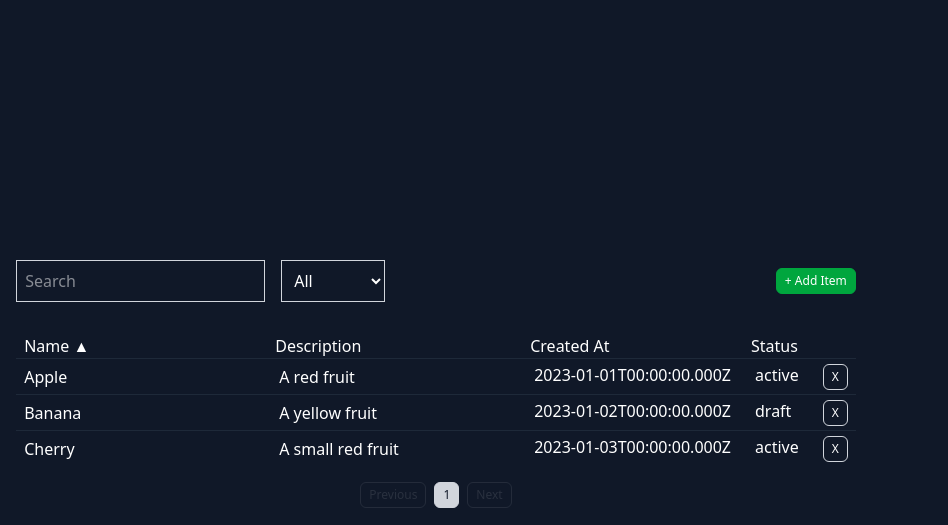
Integration Tests - Full Flow with MSW › should handle API failures gracefully
This screenshot has width=948, height=525.
Try to edit item
Replace the text in the 1st field showing "Apple" with "Green Apple" at (140, 376), box [16,363,263,390]
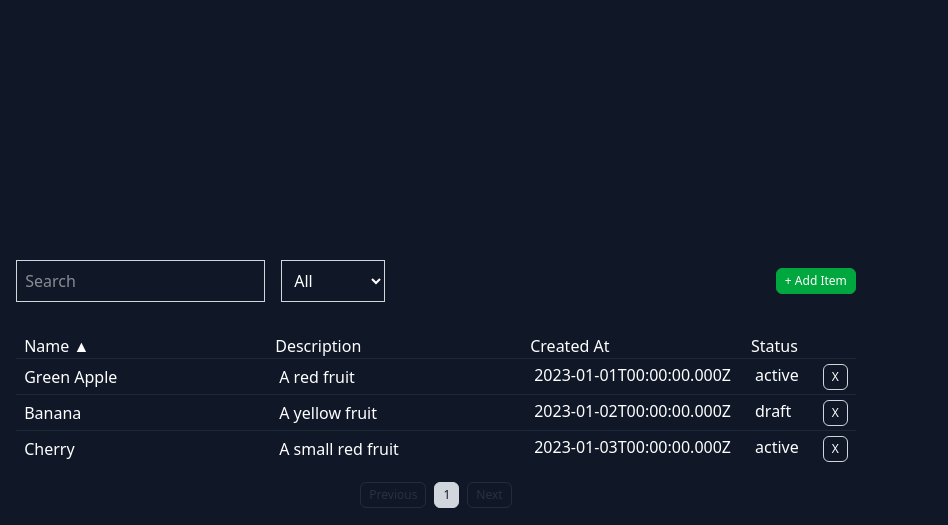
Press Enter in the 1st field showing "Apple", box [16,363,263,390]
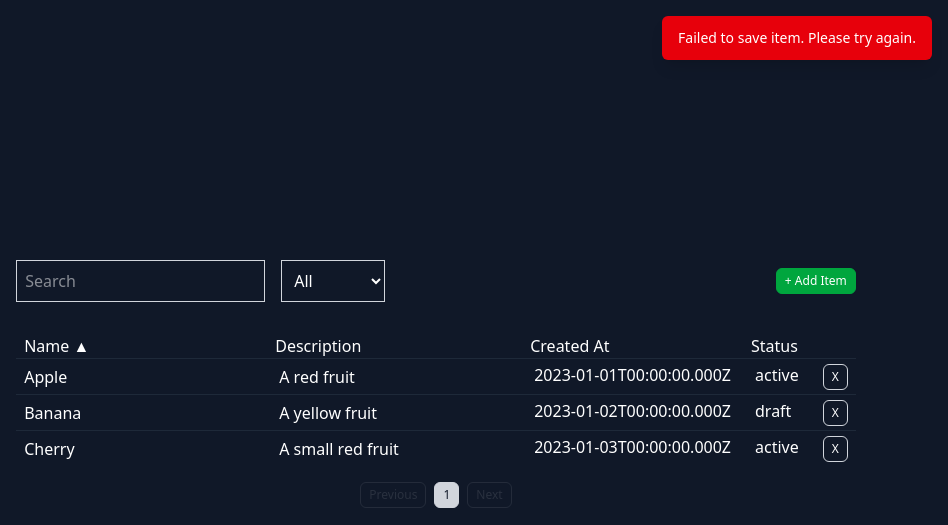
Check: the text "Failed to save item. Please try again." is shown, box [662,16,932,60]
